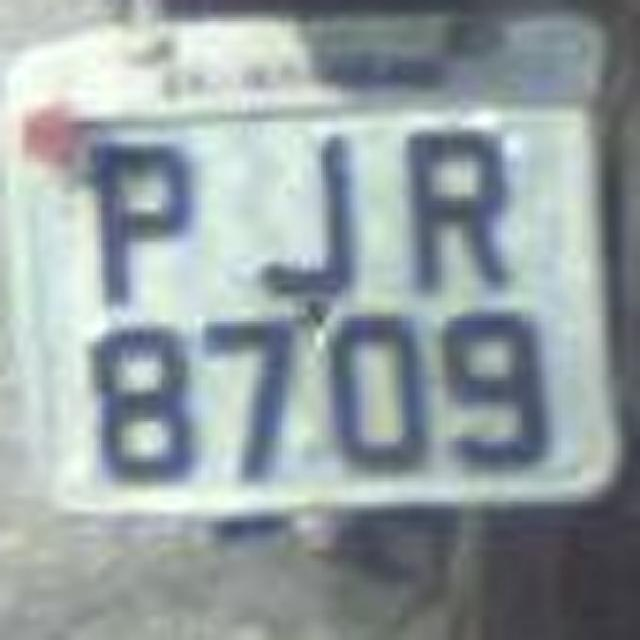0: (300, 300, 445, 488)
7: (184, 305, 331, 500)
8: (68, 300, 220, 508)
9: (420, 291, 565, 484)
J: (228, 120, 384, 308), (144, 476, 311, 636)
P: (72, 120, 208, 315)
R: (388, 120, 532, 305)
